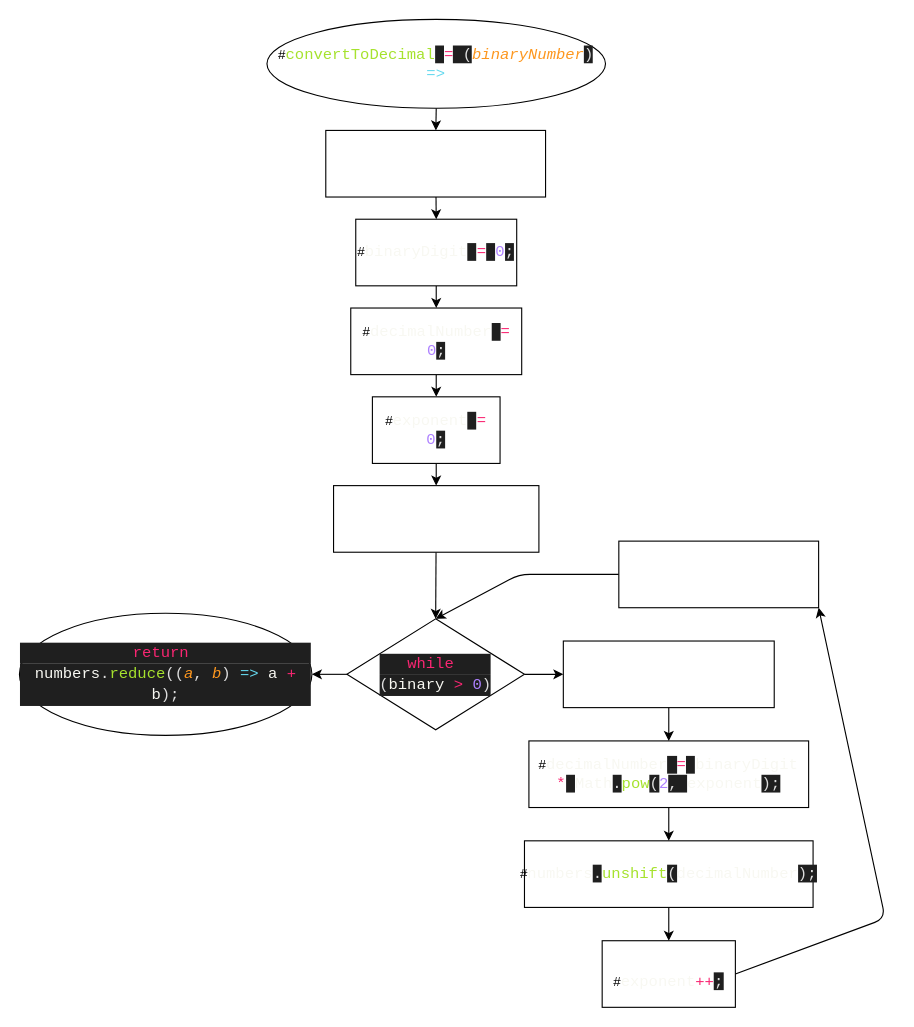
The diagram is 914 pixels wide and 1027 high, and some of its shapes have lost their labels. Here are the shapes that lost their labels. From the top down, the box of each, then its label:
(325, 129, 546, 197): # binary = binaryNumber ;
(332, 485, 539, 552): # numbers = new Array ();
(618, 540, 819, 608): # binary = Math . floor ( binary / 10 );
(562, 640, 774, 708): # binaryDigit = binaryNumberCopy % 10 ;
